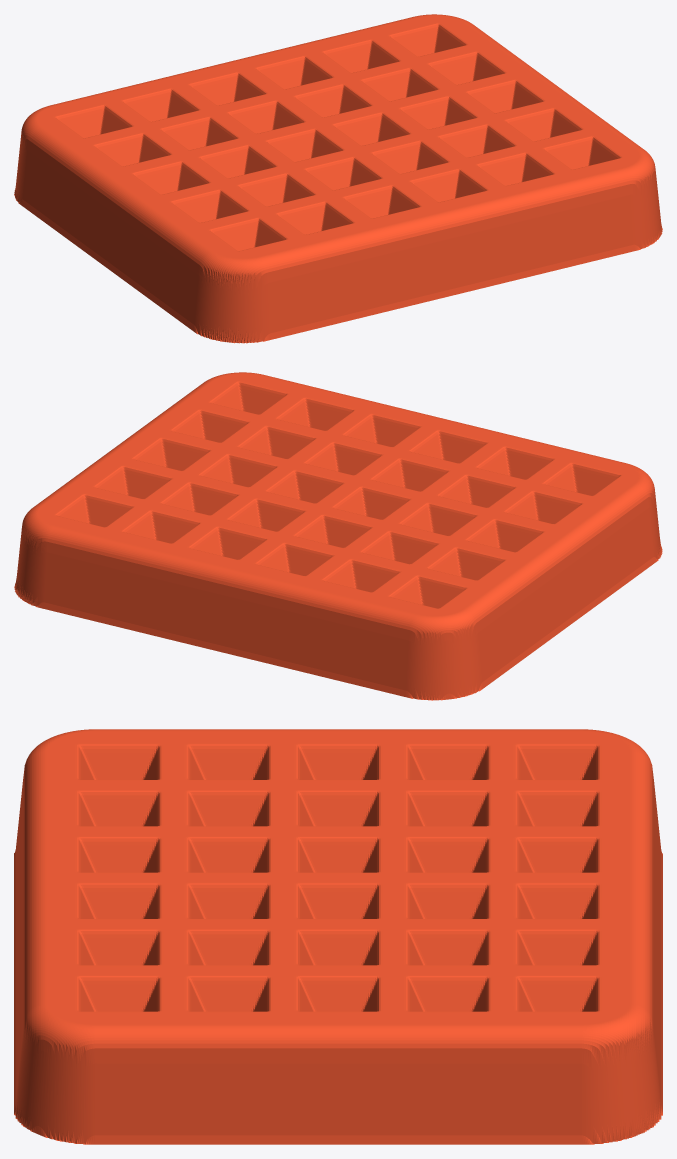
The model's file is mold.glb.
3 views of the same model, one above another, from view 1: azimuth 30°, elevation 25°; view 2: azimuth 150°, elevation 25°; view 3: azimuth 270°, elevation 25° (orthographic). The views are drawn at different scales.
Parts seen in each view (by area): view 1: geometry_0; view 2: geometry_0; view 3: geometry_0.
Boxes of the visible parts, box(x1,y1,x2,y2) form: geometry_0: box(14, 14, 662, 343); geometry_0: box(14, 372, 662, 700); geometry_0: box(14, 729, 662, 1144).
Size of the model in its own units: 0.0844 by 0.0131 by 0.0722.
